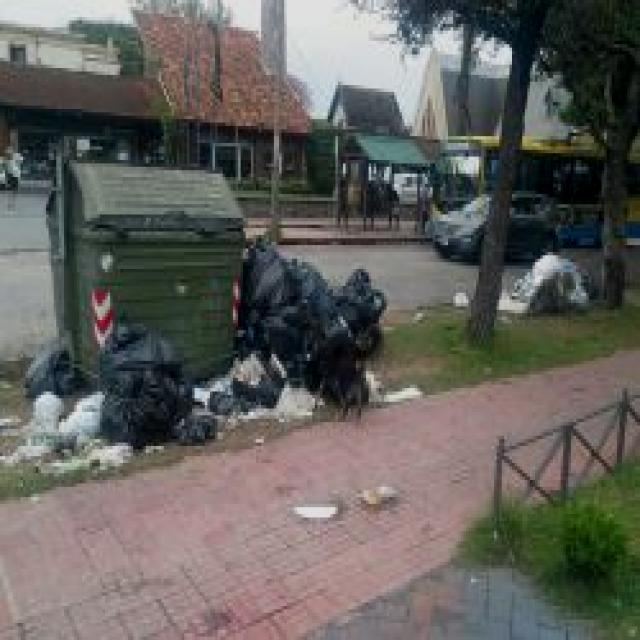high trash: (0, 245, 386, 474), (499, 250, 602, 314)
less trash: (361, 486, 399, 504), (294, 505, 338, 519), (384, 386, 422, 402), (452, 292, 468, 307)
